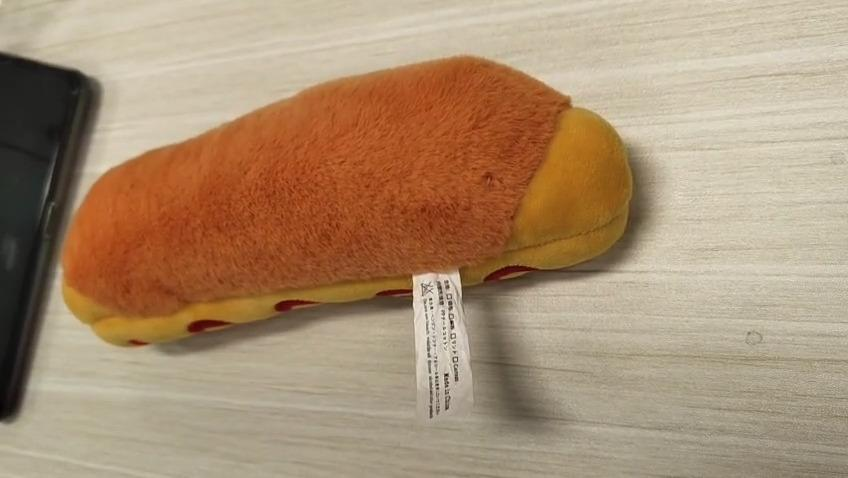hotdog: (61, 55, 637, 346)
